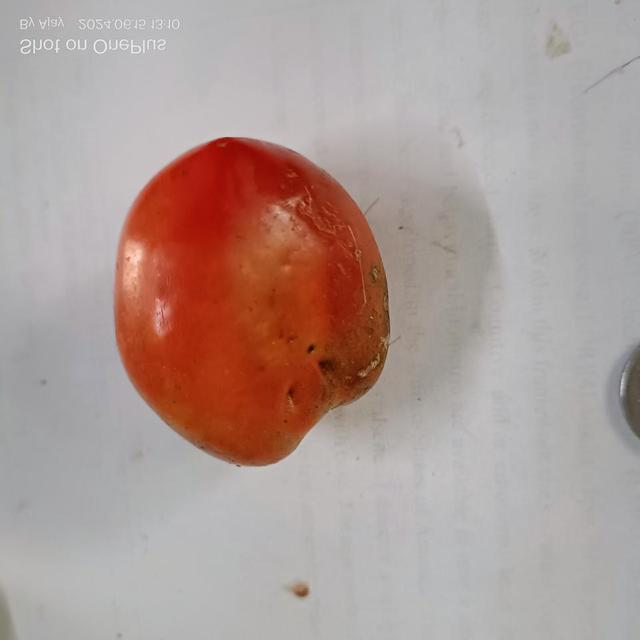Bacterial Spot Fruit: (12, 19, 207, 266)
